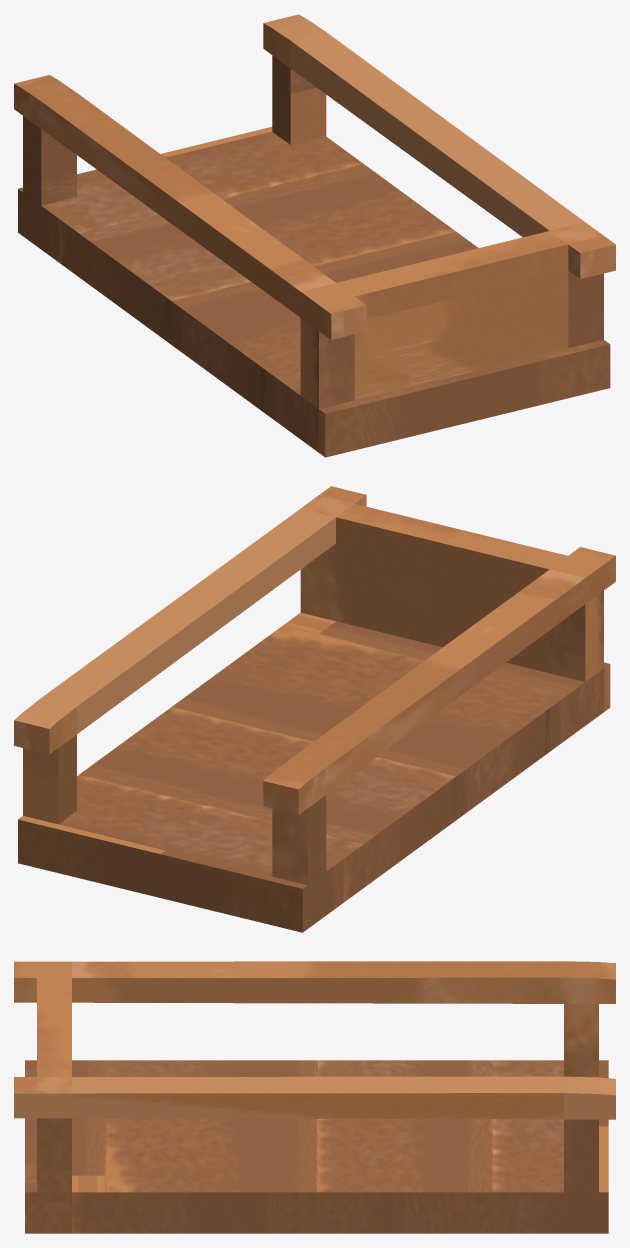
Rendered from CartTop.fbx.
3 renders of one model, top to bottom at view 1: azimuth 30°, elevation 25°; view 2: azimuth 150°, elevation 25°; view 3: azimuth 270°, elevation 25°, orthographic. The views are drawn at different scales.
Parts seen in each view (by area): view 1: Cube; view 2: Cube; view 3: Cube.
Part boxes in pixels (<box>): Cube: <box>14,14,615,457</box>; Cube: <box>14,486,615,932</box>; Cube: <box>14,961,615,1233</box>.
Size of the model in its own units: 200 by 99.49 by 386.
1 material, 1 textured.
